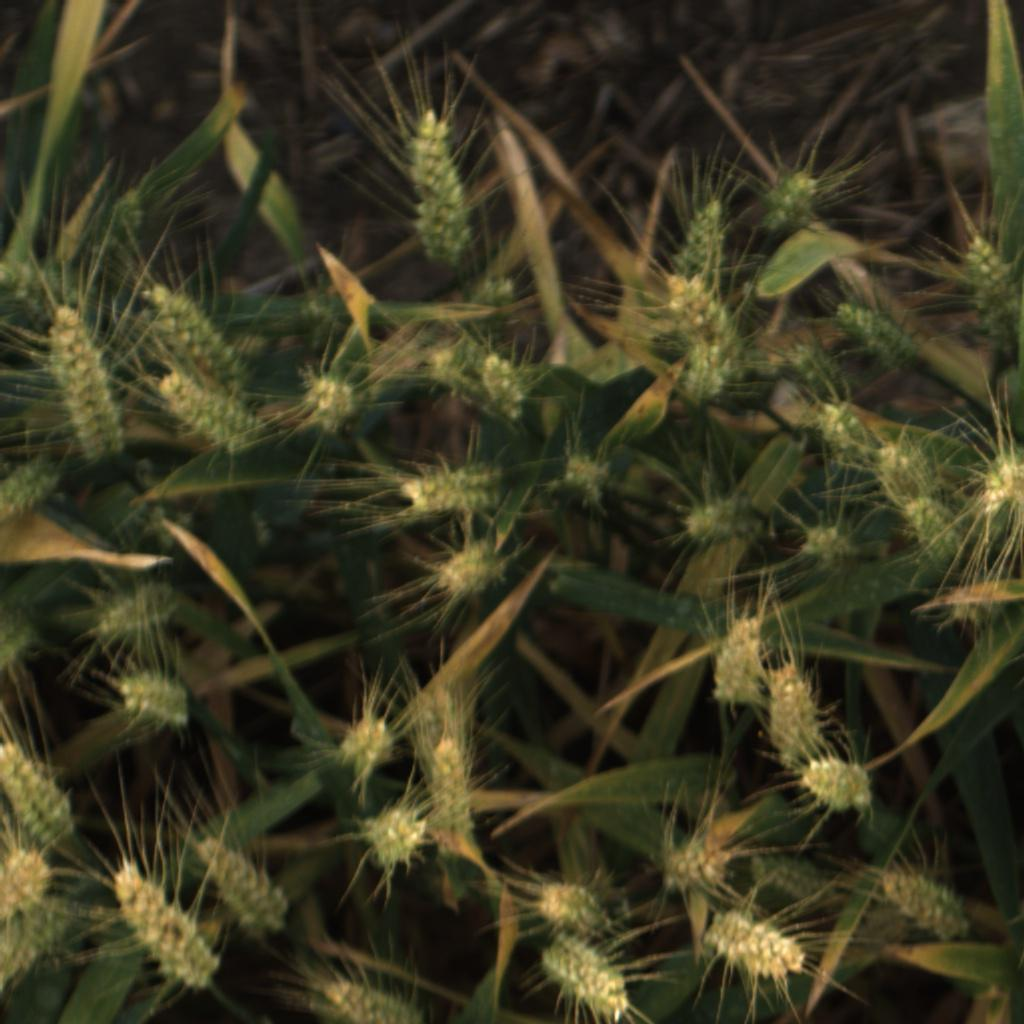0-0: (103, 854, 221, 993), (47, 307, 138, 461), (403, 107, 478, 270), (190, 830, 296, 940), (145, 274, 248, 386), (947, 232, 1024, 369), (663, 276, 757, 381), (538, 932, 641, 1024), (156, 372, 265, 454), (825, 292, 930, 374), (1, 736, 81, 840), (420, 734, 488, 856), (706, 910, 813, 985), (397, 456, 510, 526), (0, 252, 94, 331), (876, 864, 970, 942), (767, 660, 830, 775), (665, 193, 732, 295), (115, 655, 196, 737), (708, 607, 772, 710), (404, 684, 472, 777), (319, 970, 436, 1024), (1, 451, 77, 533), (774, 329, 855, 405), (675, 482, 763, 549), (902, 491, 971, 576), (0, 913, 67, 1000), (92, 576, 180, 642), (757, 160, 827, 242), (746, 845, 835, 909), (875, 433, 941, 516), (534, 870, 615, 937), (410, 324, 476, 406), (802, 395, 875, 468), (470, 346, 539, 423), (430, 535, 508, 602), (660, 835, 736, 902), (334, 710, 402, 783), (801, 752, 875, 819), (363, 802, 427, 879), (92, 186, 150, 265), (297, 370, 362, 438), (553, 450, 621, 514), (1, 843, 60, 914), (463, 272, 520, 342), (799, 512, 860, 574), (677, 346, 729, 418), (137, 499, 194, 558), (0, 604, 41, 677), (946, 589, 1008, 634), (990, 448, 1024, 519)
